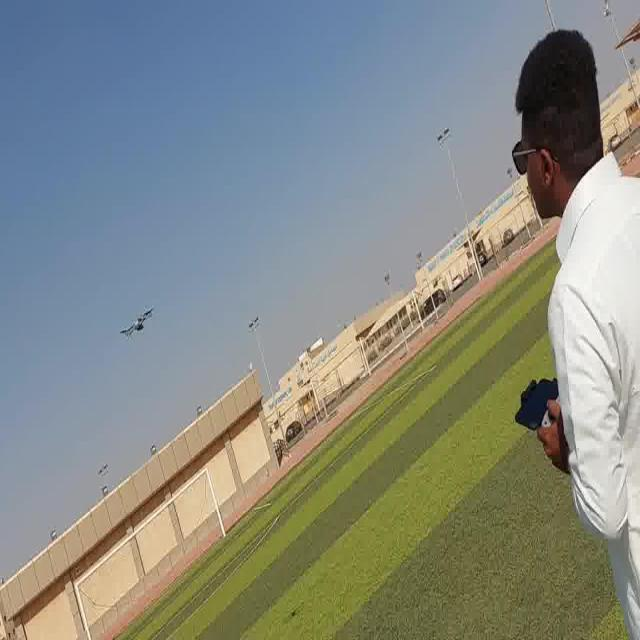drone: (116, 296, 156, 348)
